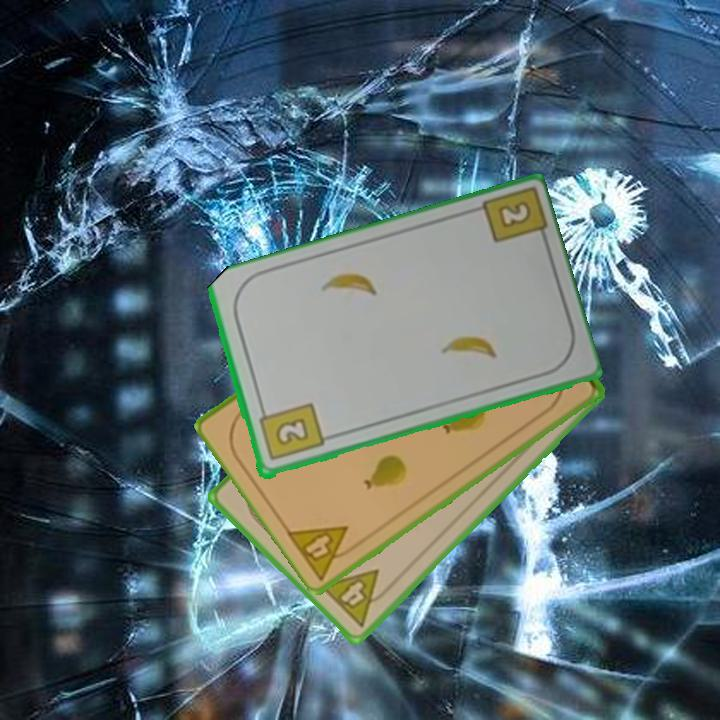2b: (255, 400, 326, 464), (494, 197, 534, 232)
4p: (316, 565, 397, 631), (283, 522, 365, 583)
